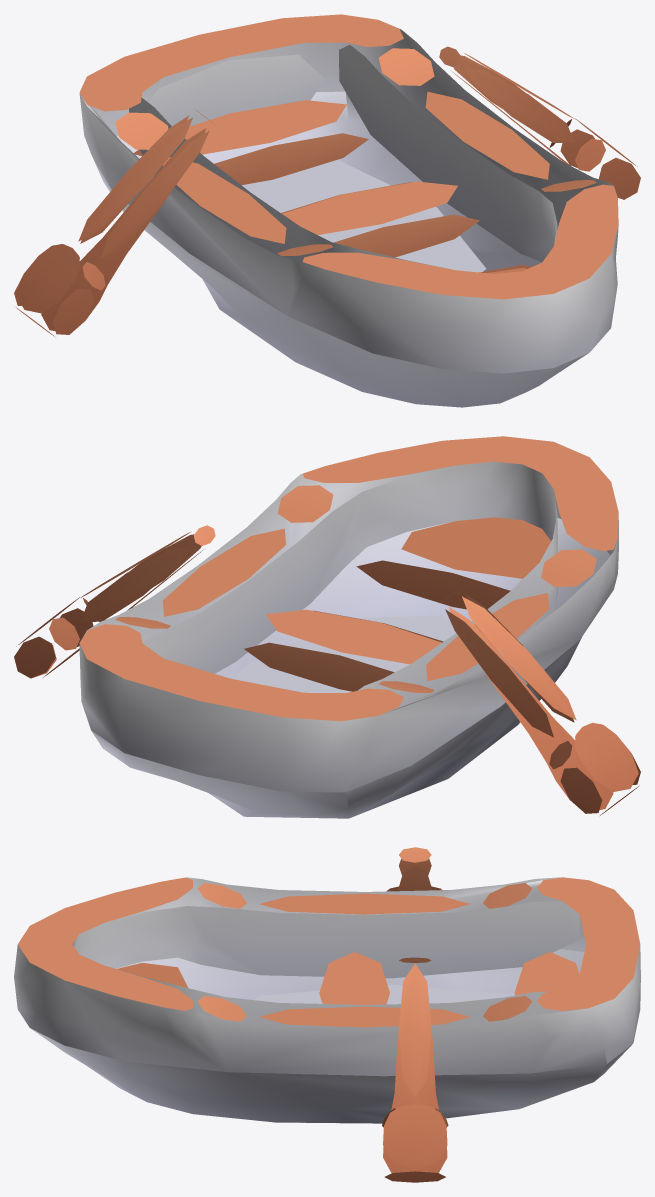
Rendered from boat-row-large.glb.
The picture shows the model from 3 angles, top to bottom: view 1: azimuth 30°, elevation 25°; view 2: azimuth 150°, elevation 25°; view 3: azimuth 270°, elevation 25°; orthographic projection. The views are drawn at different scales.
Visible parts, largest first — view 1: boat-row-large, paddles; view 2: boat-row-large, paddles; view 3: boat-row-large, paddles.
Boxes of the visible parts, bbox=[...] form: boat-row-large: bbox=[79, 14, 618, 407]; paddles: bbox=[14, 46, 640, 337]; boat-row-large: bbox=[79, 436, 618, 818]; paddles: bbox=[14, 525, 640, 815]; boat-row-large: bbox=[14, 877, 640, 1123]; paddles: bbox=[382, 847, 448, 1182].
Size of the model in its own units: 2.74 by 0.8453 by 2.79.
Materials: 1 (1 with a texture image).
